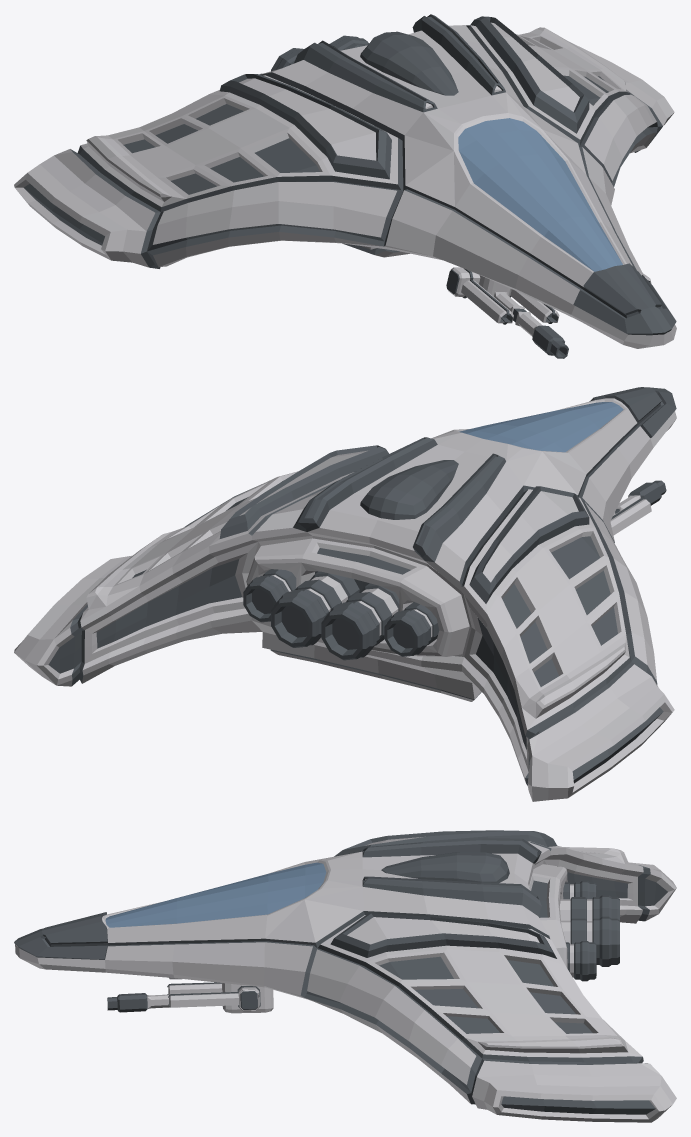
The model's file is Fighter_09_Neutral.fbx.
3 views of the same model, one above another, from view 1: azimuth 30°, elevation 25°; view 2: azimuth 150°, elevation 25°; view 3: azimuth 270°, elevation 25° (orthographic). The views are drawn at different scales.
Visible parts, largest first — view 1: Fighter_09_Neutral; view 2: Fighter_09_Neutral; view 3: Fighter_09_Neutral.
Boxes of the visible parts, x1=… form: Fighter_09_Neutral: x1=14, y1=14, x2=676, y2=358; Fighter_09_Neutral: x1=14, y1=387, x2=676, y2=801; Fighter_09_Neutral: x1=14, y1=830, x2=676, y2=1122.
Size of the model in its own units: 1089 by 343 by 1256.
Materials: 3 (3 with a texture image).
